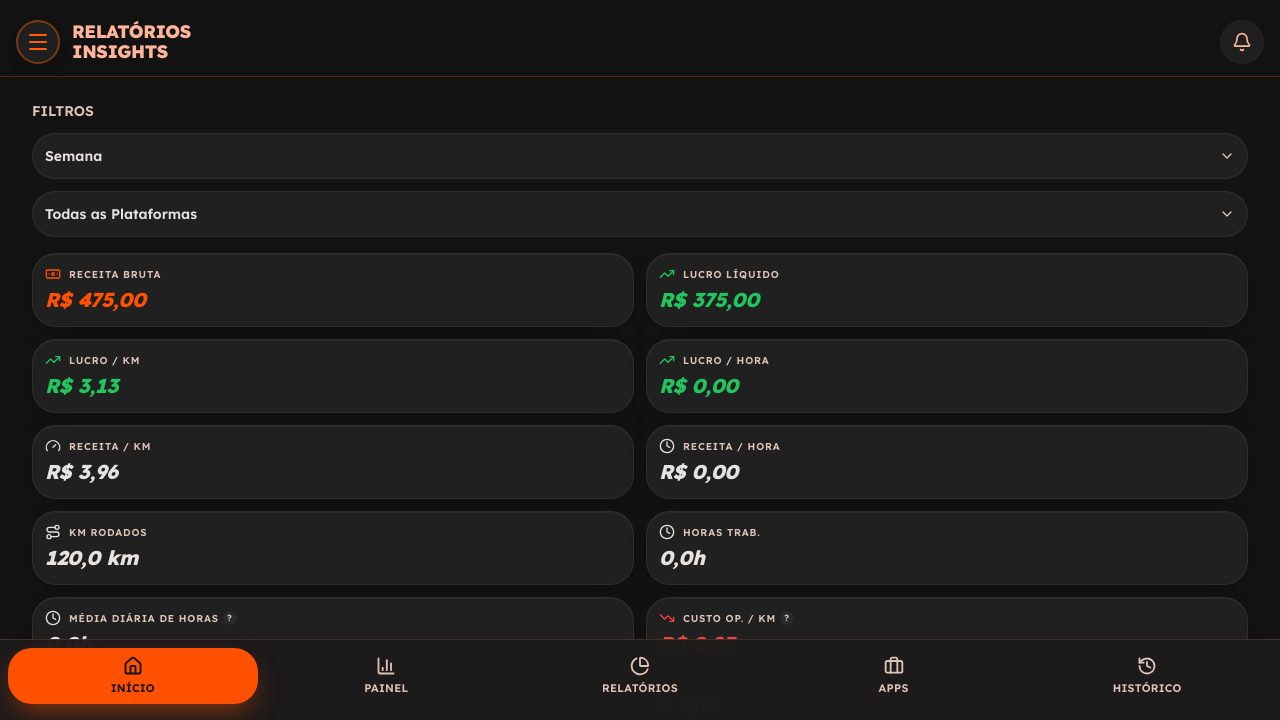
Test case: RelatoriosPage - Financial and Operational Reports › switches report period dropdown (Dia, Semana, Quinzena, Mês, Ano)
Expected: the text "Receita Bruta" is shown, 69,266 -> 161,282
Note: Open period dropdown (currently "Semana")
Click the button "Semana".
click(74, 156)  # box 32,133 -> 1248,179
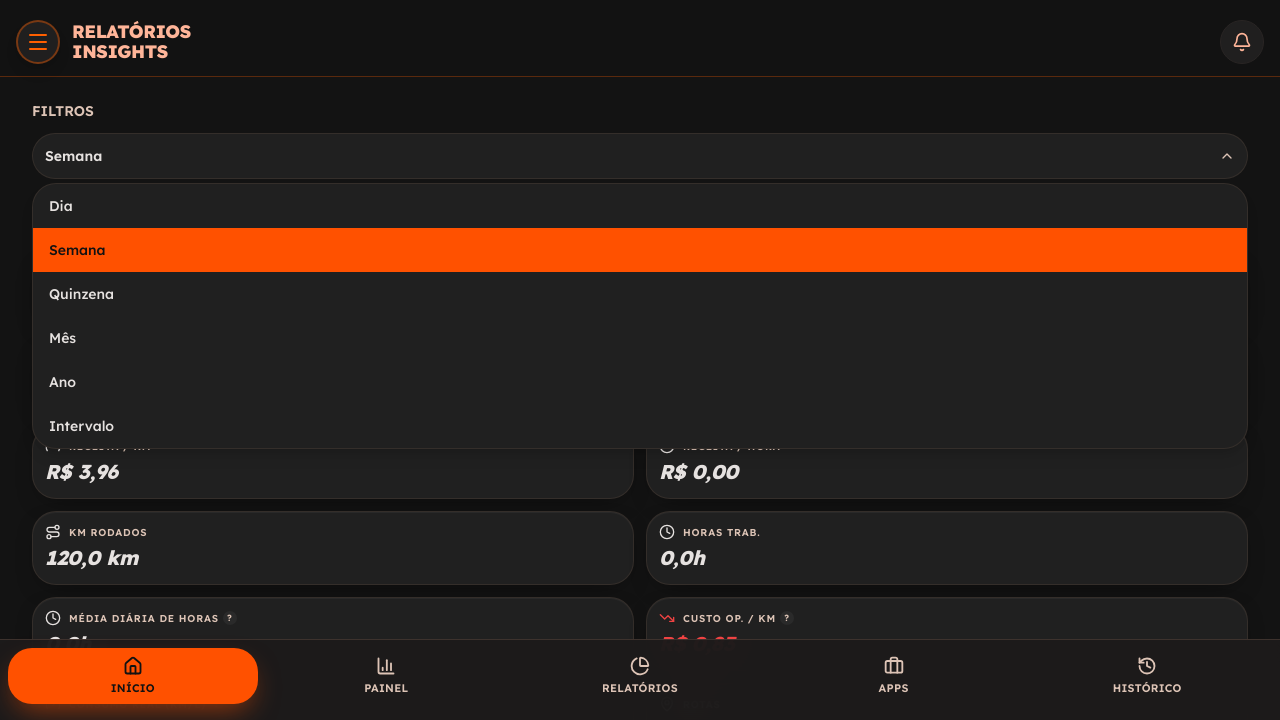
Note: Select "Mês"
Click the button "Mês".
click(63, 338)  # box 33,316 -> 1247,360
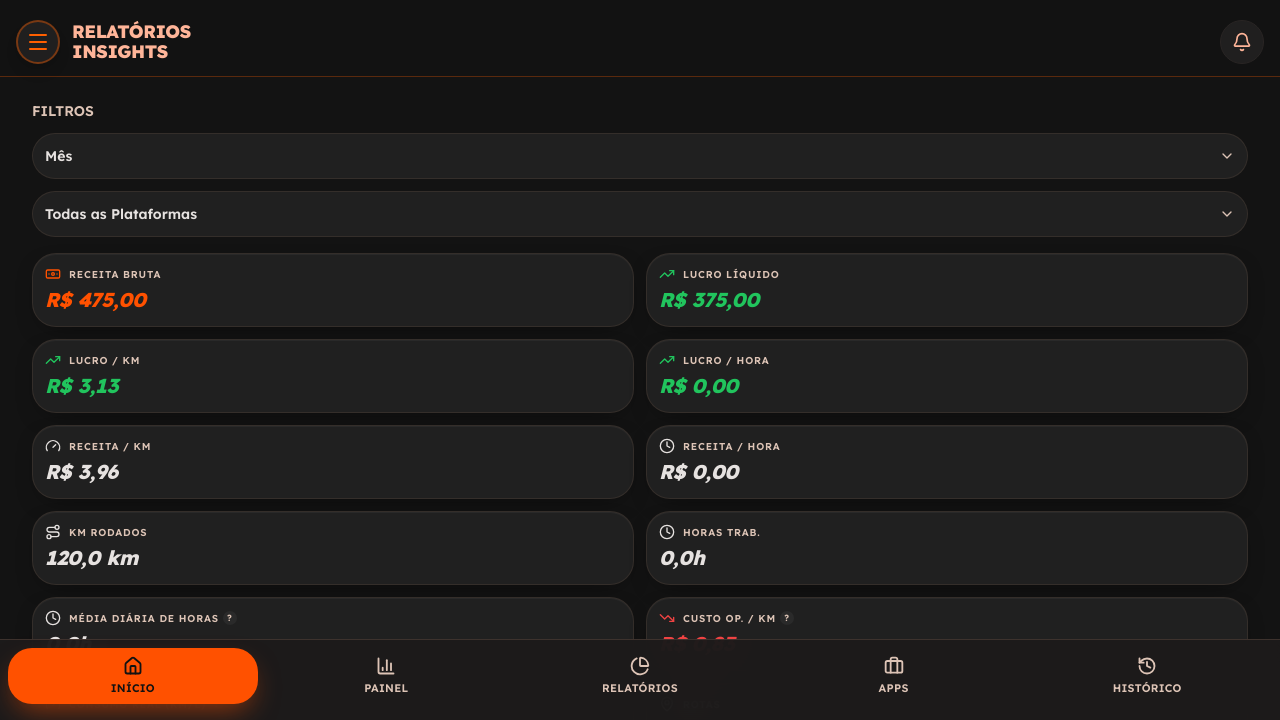
Result: the text "Mês" is shown at 45,146 -> 72,166
